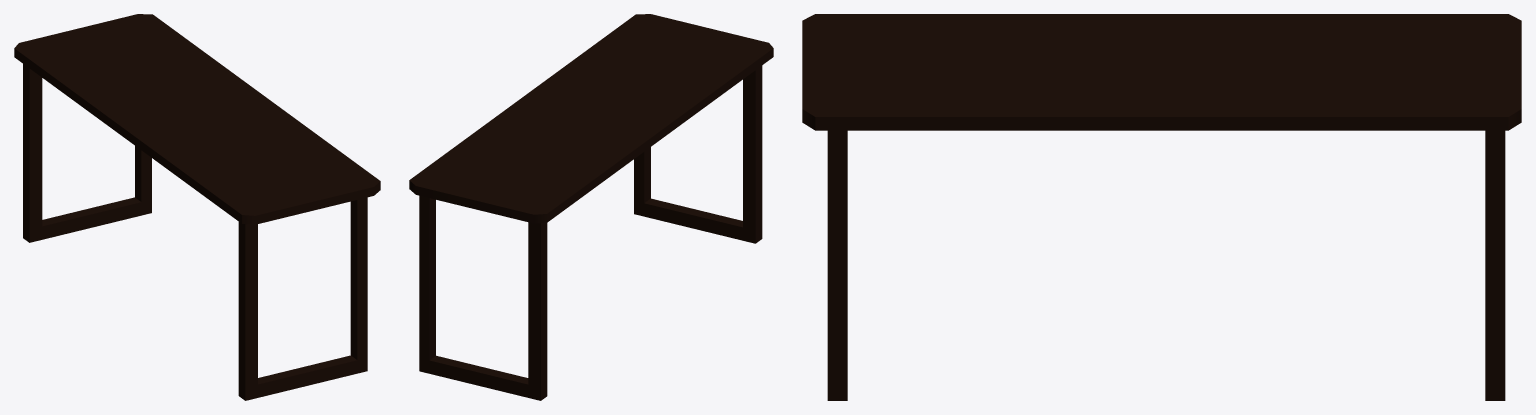
File: TableRemodelSubstance.obj
3 renders of one model, left to right at view 1: azimuth 30°, elevation 25°; view 2: azimuth 150°, elevation 25°; view 3: azimuth 270°, elevation 25°, orthographic. The views are drawn at different scales.
Parts seen in each view (by area): view 1: TableTop, TableTop TableLeg1 TableLeg2; view 2: TableTop, TableTop TableLeg1 TableLeg2; view 3: TableTop, TableTop TableLeg1 TableLeg2.
Part boxes in pixels (bbox=[...]): TableTop: bbox=[14, 14, 380, 224]; TableTop TableLeg1 TableLeg2: bbox=[23, 64, 367, 400]; TableTop: bbox=[409, 14, 773, 223]; TableTop TableLeg1 TableLeg2: bbox=[419, 65, 762, 400]; TableTop: bbox=[802, 14, 1521, 130]; TableTop TableLeg1 TableLeg2: bbox=[827, 130, 1505, 400].
Size of the model in its own units: 1.86 by 2.44 by 5.48.
